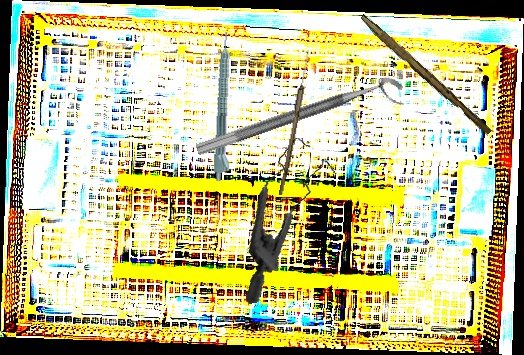Fixation Ring: (194, 72, 409, 174)
Handpiece: (213, 31, 238, 182)
Scalpel Handle: (356, 13, 495, 137)
Speculum: (220, 132, 355, 305)
Surgical Spoon: (278, 49, 312, 196)
